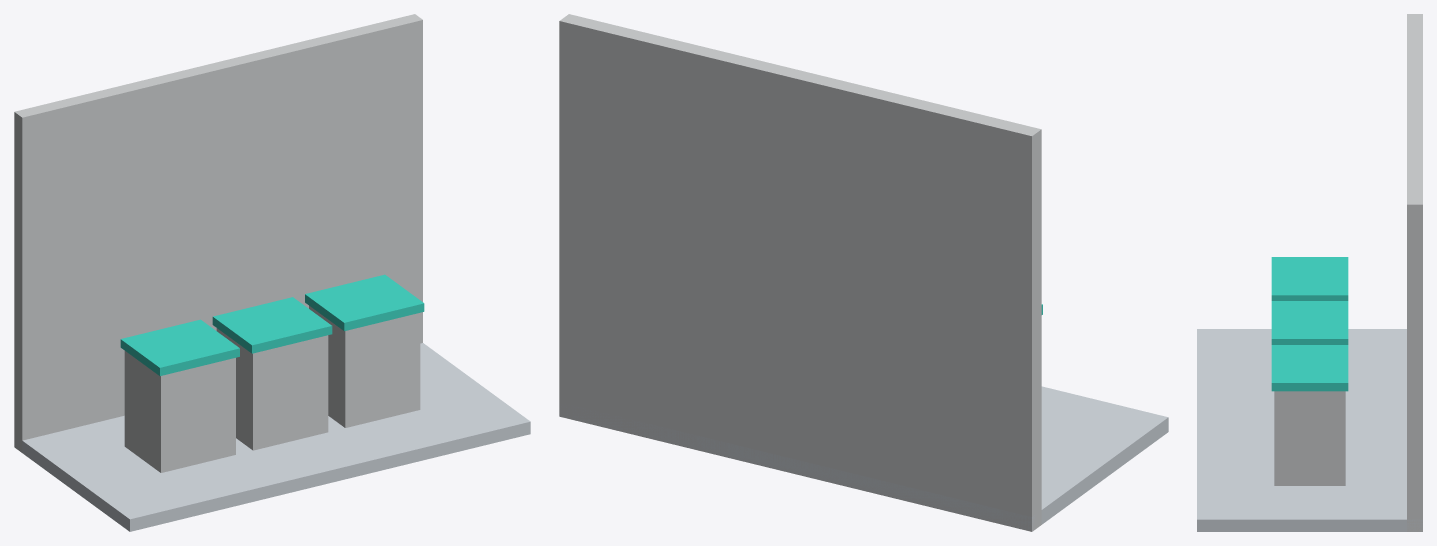
3 renders of one model, left to right at view 1: azimuth 30°, elevation 25°; view 2: azimuth 150°, elevation 25°; view 3: azimuth 270°, elevation 25°, orthographic. The views are drawn at different scales.
Visible parts, largest first — view 1: Exhibition Booth Concept; view 2: Exhibition Booth Concept; view 3: Exhibition Booth Concept.
Boxes of the visible parts, x1=… form: Exhibition Booth Concept: x1=14, y1=14, x2=530, y2=531; Exhibition Booth Concept: x1=559, y1=14, x2=1168, y2=531; Exhibition Booth Concept: x1=1197, y1=14, x2=1422, y2=531.
Size of the model in its own units: 4 by 3.2 by 2.
